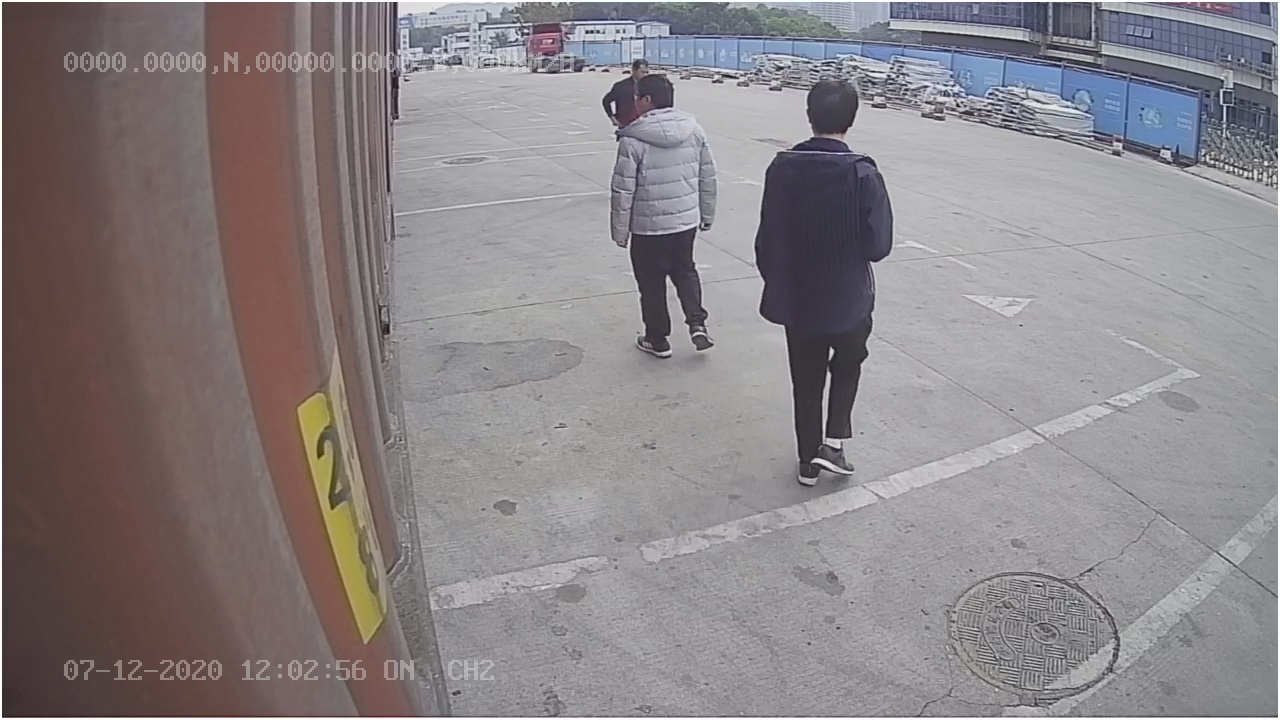person: (753, 69, 892, 491)
